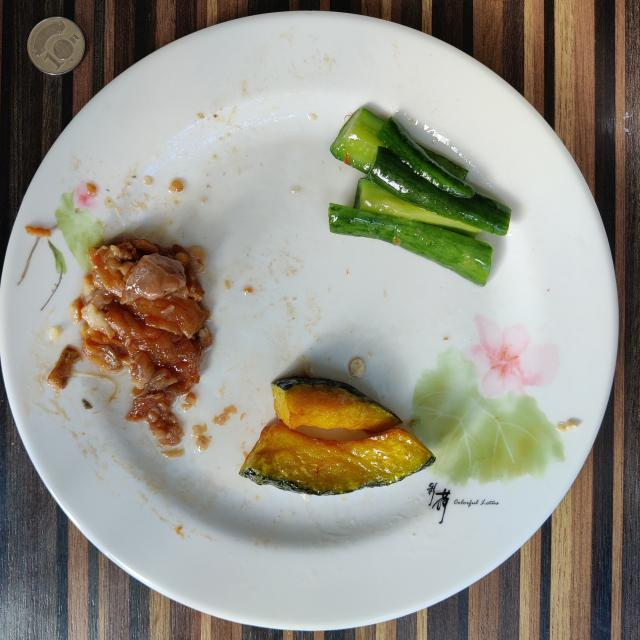Kabayaki sea bream fillet: (71, 238, 212, 445)
coin: (28, 18, 85, 75)
cucumber: (329, 109, 511, 285)
pumpkin: (240, 424, 435, 495), (271, 378, 401, 432)
